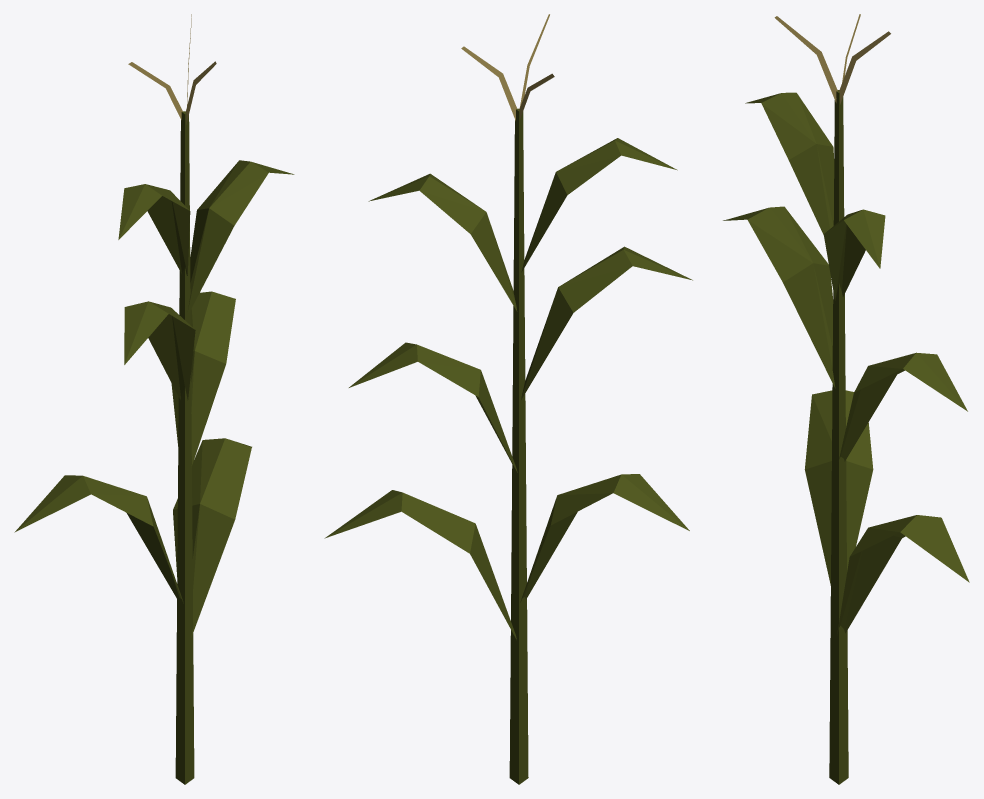
Rendered from SM_cornPlant.gltf.
3 views of the same model, side by side, from view 1: azimuth 30°, elevation 25°; view 2: azimuth 150°, elevation 25°; view 3: azimuth 270°, elevation 25° (orthographic). The views are drawn at different scales.
Parts seen in each view (by area): view 1: SM_cornPlant; view 2: SM_cornPlant; view 3: SM_cornPlant.
Part boxes in pixels (box(x1,y1,x2,y2)): SM_cornPlant: box(14, 14, 294, 784); SM_cornPlant: box(324, 14, 692, 784); SM_cornPlant: box(723, 14, 969, 784).
Bounding box in the file's own units: 0.9453 × 2.22 × 0.6515.
